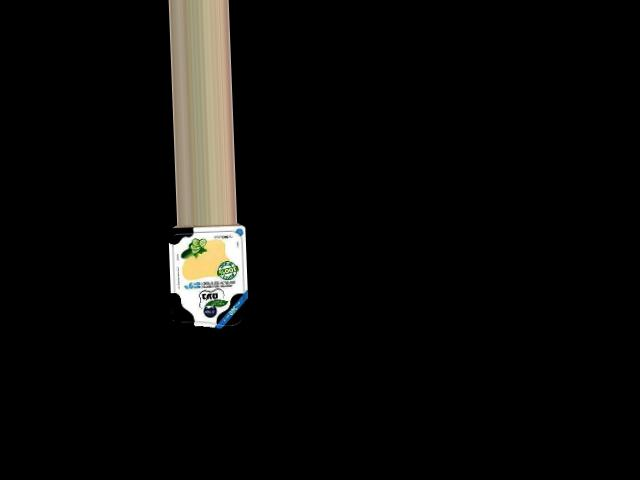cheese: (163, 221, 253, 329)
